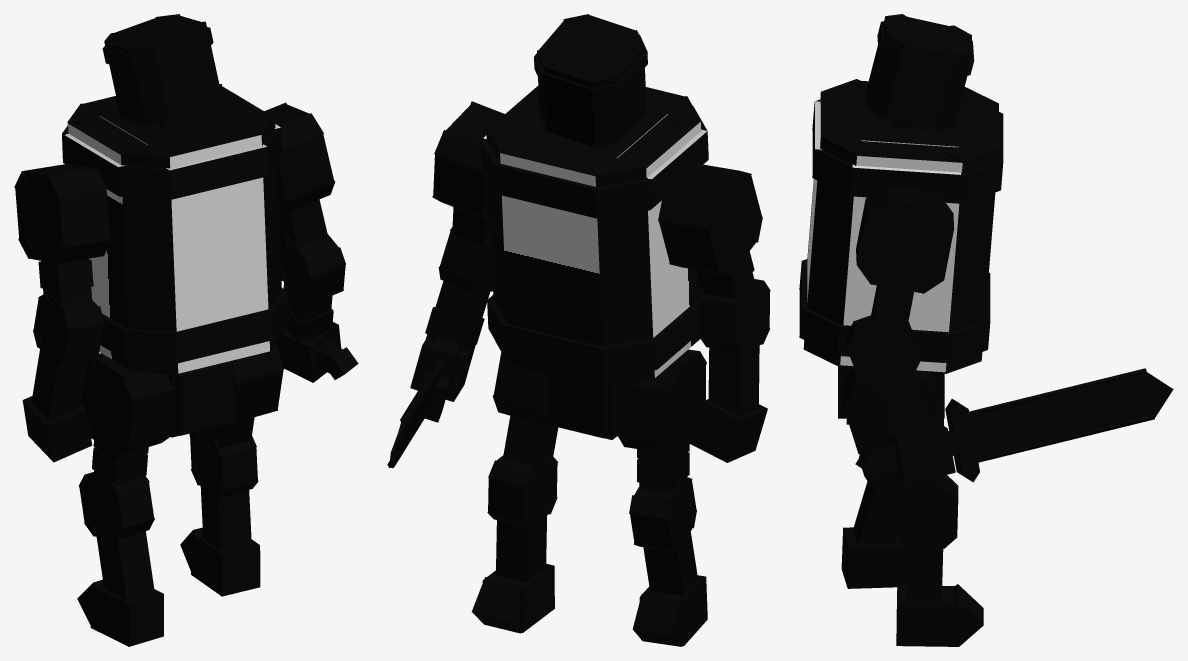
Rendered from monster.fbx.
3 renders of one model, left to right at view 1: azimuth 30°, elevation 25°; view 2: azimuth 150°, elevation 25°; view 3: azimuth 270°, elevation 25°, orthographic. The views are drawn at different scales.
Parts seen in each view (by area): view 1: cube_4, cube_9, cube_5, cube_43, cube_28, cube_101, cube_95, cube_114, cube_133, cube_21, cube_14, cube_113 (+43 smaller); view 2: cube_4, cube_6, cube_5, cube_28, cube_43, cube_101, cube_21, cube_14, cube_55, cube_95, cube_54, cube_132 (+45 smaller); view 3: cube_75, cube_5, cube_8, cube_7, cube_4, cube_62, cube_27, cube_133, cube_114, cube_74, cube_13, cube_69 (+33 smaller).
Boxes of the visible parts, x1,y1,x2,y2 form: cube_4: [84, 96, 269, 373]; cube_9: [121, 144, 178, 374]; cube_5: [68, 86, 270, 369]; cube_43: [15, 188, 110, 247]; cube_28: [115, 18, 215, 122]; cube_101: [81, 372, 175, 447]; cube_95: [175, 361, 233, 435]; cube_114: [90, 584, 163, 646]; cube_133: [190, 532, 260, 596]; cube_21: [172, 308, 274, 363]; cube_14: [166, 144, 268, 199]; cube_113: [96, 531, 154, 600]; cube_4: [500, 87, 683, 387]; cube_6: [588, 155, 654, 388]; cube_5: [489, 86, 703, 377]; cube_28: [544, 15, 634, 147]; cube_43: [659, 176, 761, 272]; cube_101: [618, 366, 705, 442]; cube_21: [501, 321, 606, 378]; cube_14: [495, 162, 599, 218]; cube_55: [690, 399, 767, 462]; cube_95: [548, 374, 608, 438]; cube_54: [708, 345, 759, 435]; cube_132: [496, 516, 546, 582]; cube_75: [970, 372, 1154, 458]; cube_5: [840, 80, 962, 372]; cube_8: [803, 130, 875, 366]; cube_7: [942, 139, 998, 373]; cube_4: [804, 92, 998, 342]; cube_62: [856, 200, 953, 279]; cube_27: [885, 17, 955, 130]; cube_133: [896, 585, 959, 646]; cube_114: [841, 527, 907, 588]; cube_74: [884, 420, 955, 484]; cube_13: [851, 164, 965, 203]; cube_69: [847, 321, 919, 382].
Bounding box in the file's own units: 128 × 226 × 131.
